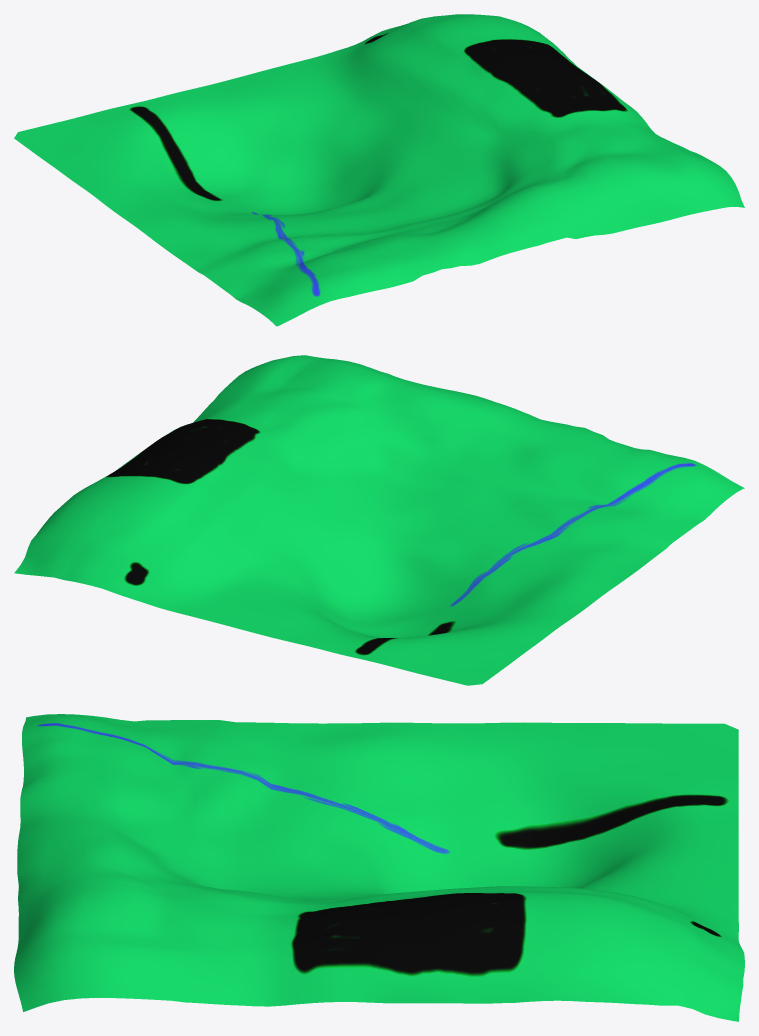
The model's file is terrain2.glb.
The picture shows the model from 3 angles, top to bottom: view 1: azimuth 30°, elevation 25°; view 2: azimuth 150°, elevation 25°; view 3: azimuth 270°, elevation 25°; orthographic projection. The views are drawn at different scales.
Visible parts, largest first — view 1: Grid; view 2: Grid; view 3: Grid.
Part boxes in pixels (x1,y1,x2,y2): Grid: (14,14,744,326); Grid: (14,355,744,685); Grid: (14,714,744,1021).
Size of the model in its own units: 206 by 41.81 by 205.
1 material, 1 textured.
